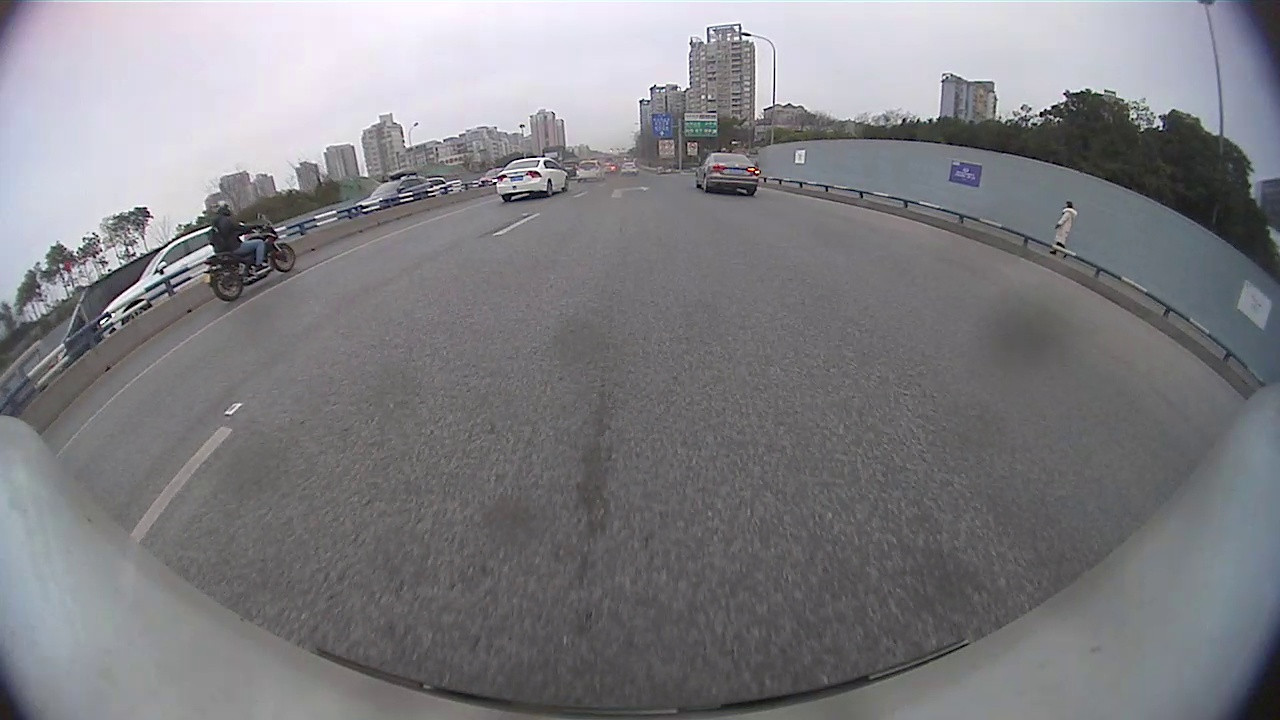car: (97, 221, 249, 341), (353, 166, 434, 214), (495, 156, 571, 202), (693, 151, 763, 197)
person: (1059, 200, 1076, 259)
rear: (545, 179, 557, 198)
rider: (201, 197, 298, 304)
